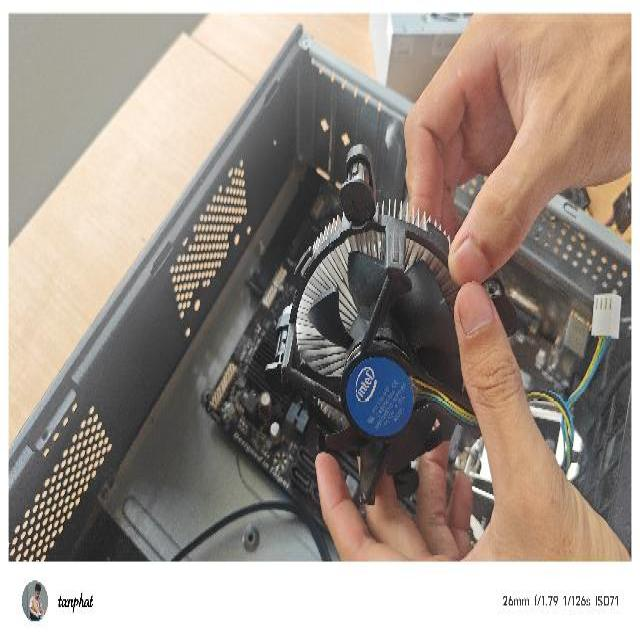CPU_Fan: (262, 142, 518, 507)
